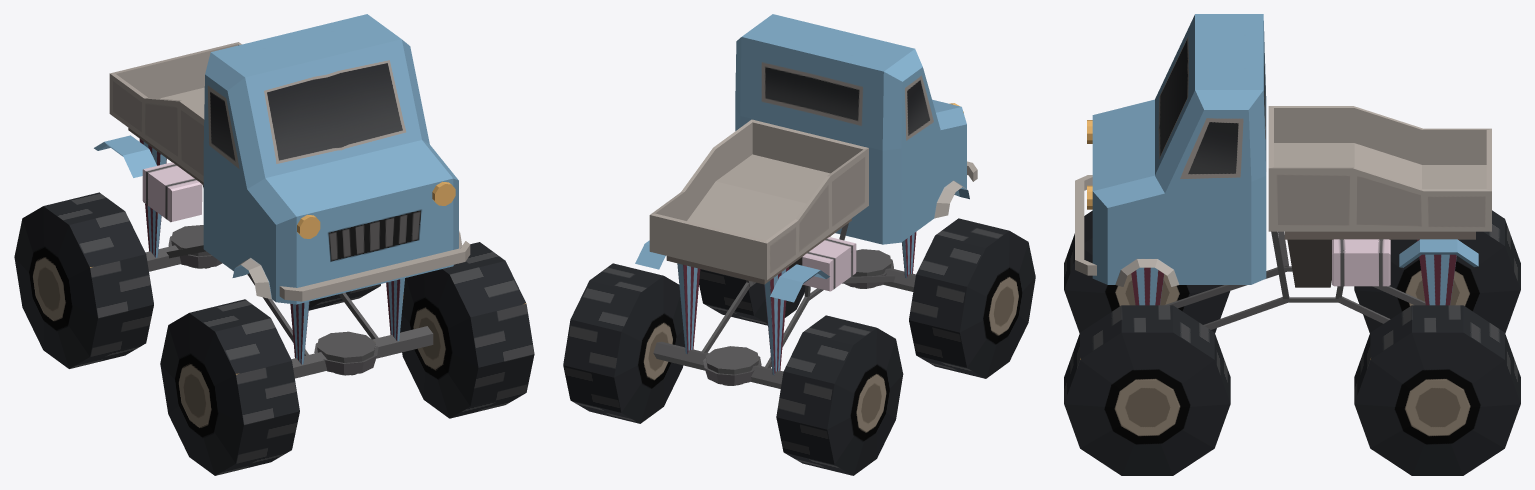
The model's file is car3.fbx.
3 renders of one model, left to right at view 1: azimuth 30°, elevation 25°; view 2: azimuth 150°, elevation 25°; view 3: azimuth 270°, elevation 25°, orthographic. The views are drawn at different scales.
Visible parts, largest first — view 1: car3_body, car3_front_wheel_RGH, car3_rear_wheel_RGH, car3_front_wheel_LEF, car3_axle, car3_rear_wheel_LEF; view 2: car3_body, car3_front_wheel_RGH, car3_rear_wheel_RGH, car3_rear_wheel_LEF, car3_axle, car3_front_wheel_LEF; view 3: car3_body, car3_front_wheel_LEF, car3_rear_wheel_LEF, car3_axle, car3_rear_wheel_RGH, car3_front_wheel_RGH.
Part boxes in pixels (x1,y1,x2,y2): car3_body: (94,14,470,304); car3_front_wheel_RGH: (160,299,299,475); car3_rear_wheel_RGH: (14,192,153,368); car3_front_wheel_LEF: (400,242,534,418); car3_axle: (139,139,433,378); car3_rear_wheel_LEF: (308,284,380,310); car3_body: (635,14,977,302); car3_front_wheel_RGH: (909,218,1035,378); car3_rear_wheel_RGH: (776,315,903,475); car3_rear_wheel_LEF: (563,263,684,423); car3_axle: (653,223,916,388); car3_front_wheel_LEF: (699,269,805,325); car3_body: (1075,14,1491,286); car3_front_wheel_LEF: (1064,305,1230,475); car3_rear_wheel_LEF: (1354,305,1520,475); car3_axle: (1131,231,1458,329); car3_rear_wheel_RGH: (1354,210,1520,333); car3_front_wheel_RGH: (1064,210,1230,333).
Bounding box in the file's own units: 2.95 × 3.29 × 3.85.
Materials: 1 (1 with a texture image).
